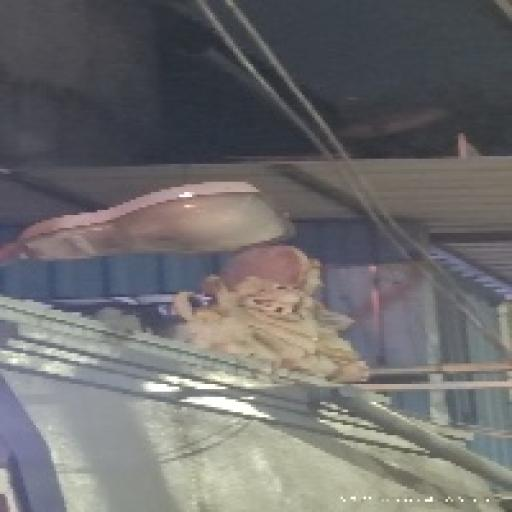Not Working: (8, 167, 316, 310)
